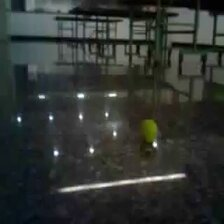tennis: (141, 118, 158, 144)
